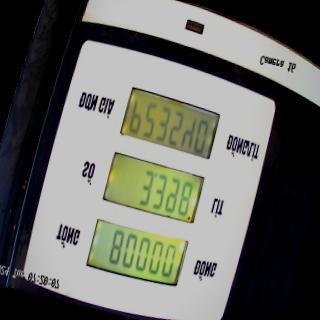screen: (82, 83, 224, 292)
